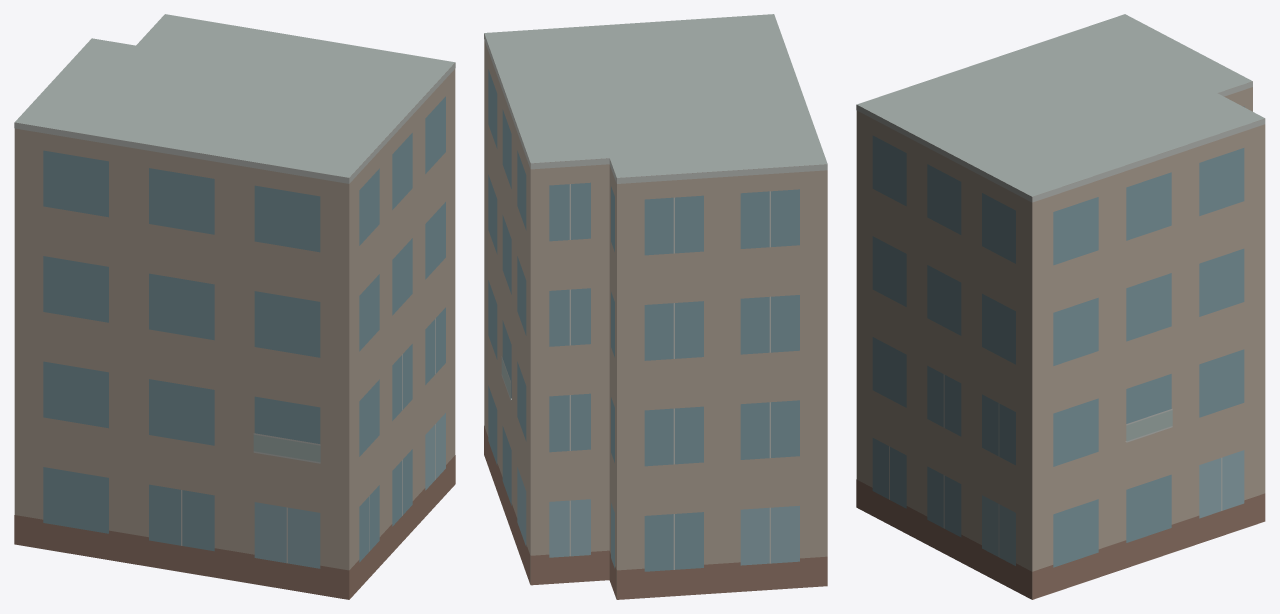
The model's file is survey-upis-32716440.glb.
3 renders of one model, left to right at view 1: azimuth 30°, elevation 25°; view 2: azimuth 150°, elevation 25°; view 3: azimuth 270°, elevation 25°, orthographic. The views are drawn at different scales.
Visible parts, largest first — view 1: survey-upis-32716440.tmp; view 2: survey-upis-32716440.tmp; view 3: survey-upis-32716440.tmp.
Part boxes in pixels (left/top/right/bottom): survey-upis-32716440.tmp: left=14, top=14, right=455, bottom=599; survey-upis-32716440.tmp: left=484, top=14, right=827, bottom=599; survey-upis-32716440.tmp: left=856, top=14, right=1265, bottom=599.
Bounding box in the file's own units: 16.55 × 17 × 15.64.
